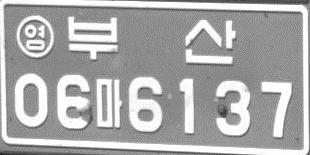0: (13, 72, 50, 128)
1: (170, 78, 207, 134)
3: (215, 79, 250, 136)
6: (55, 73, 92, 130), (128, 75, 163, 132)
7: (260, 80, 292, 138)
마: (95, 77, 125, 130)
부산_D: (65, 15, 237, 65)
영: (17, 14, 55, 58)
